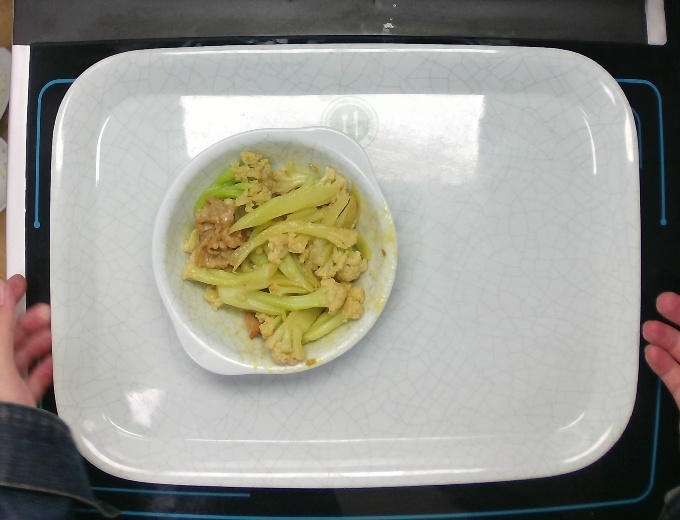JYsf-Shuang_Er_Wan: (148, 121, 400, 381)
